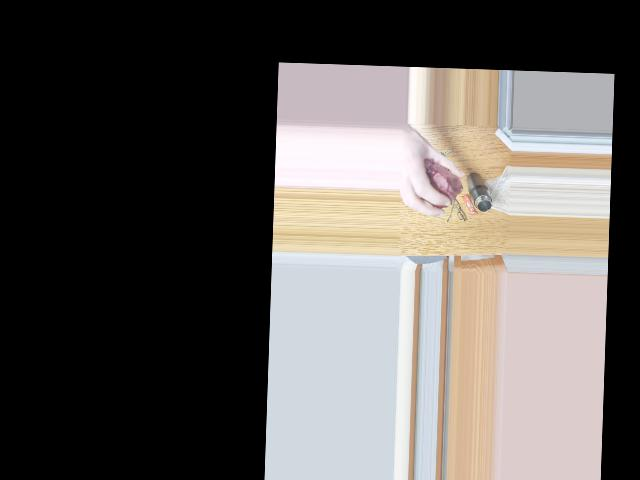onion: (420, 158, 460, 207)
